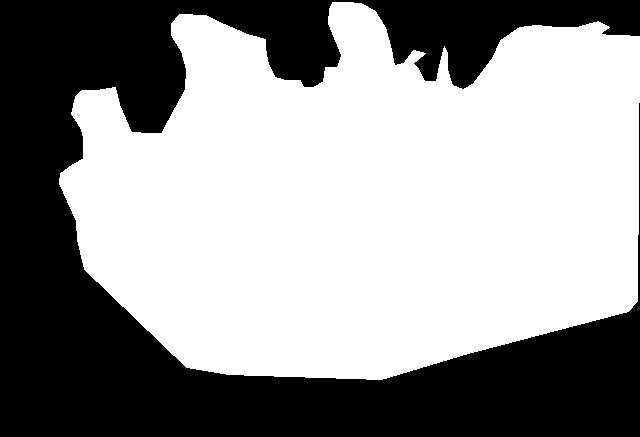Fire: (59, 21, 640, 389)
